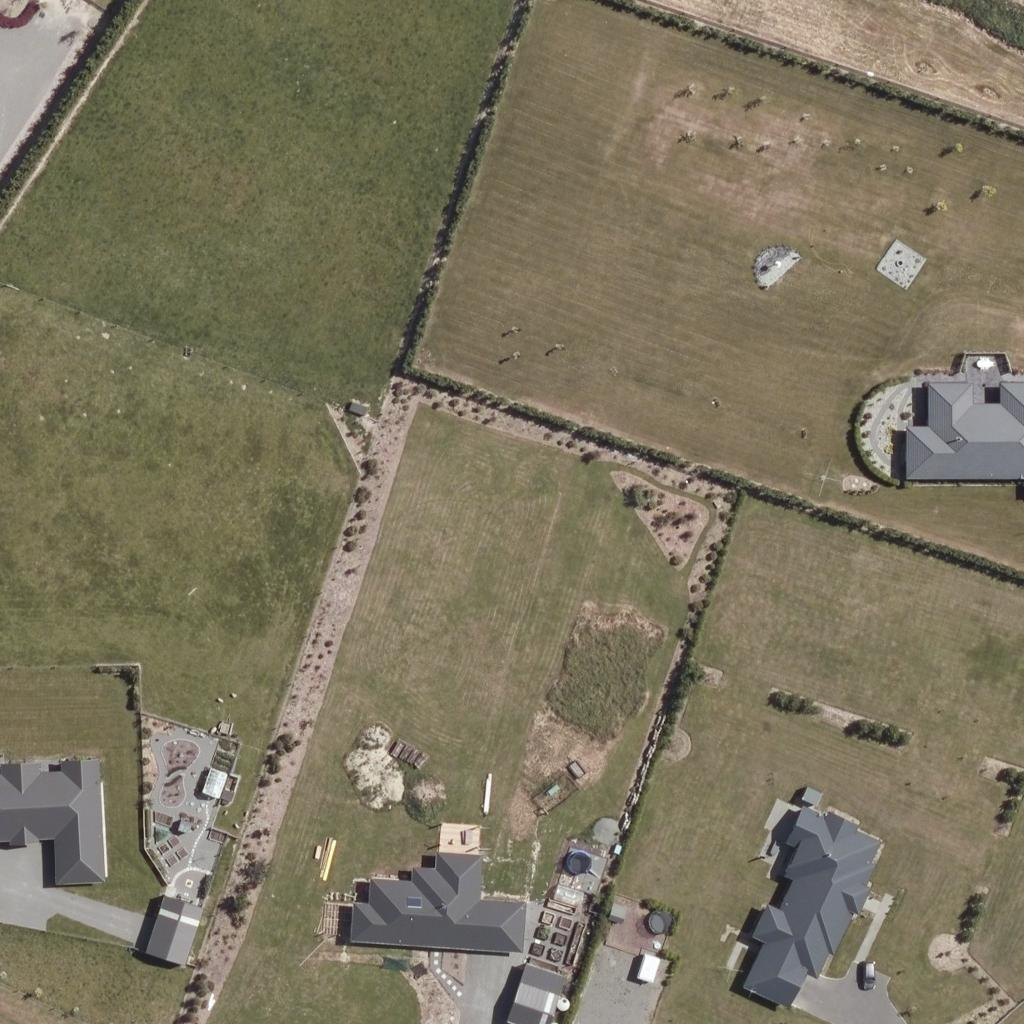car: (851, 955, 885, 989)
